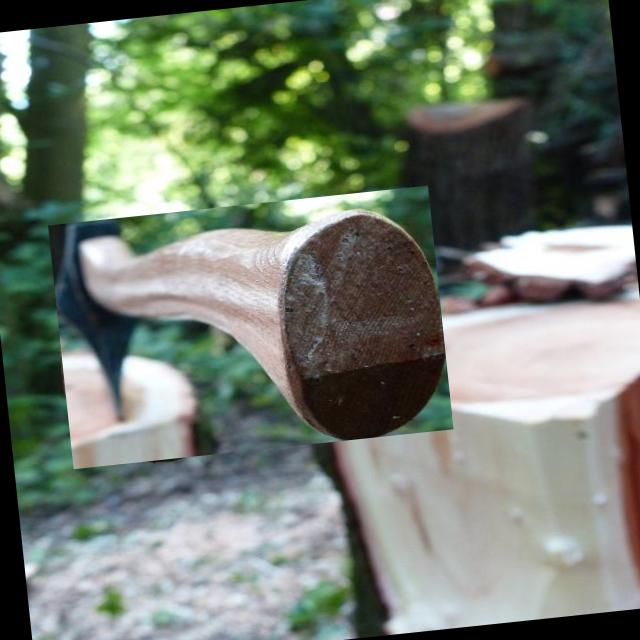Axe: (56, 213, 444, 439)
